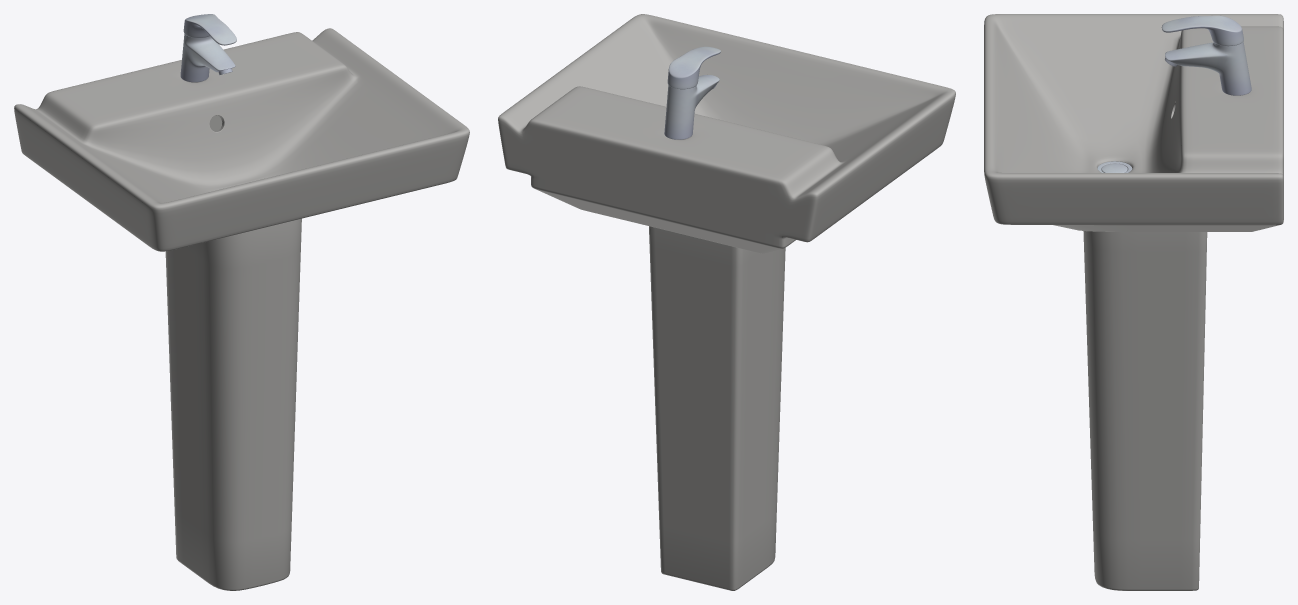
File: visual_HighPoly_07_PedestalSink.dae
The picture shows the model from 3 angles, left to right: view 1: azimuth 30°, elevation 25°; view 2: azimuth 150°, elevation 25°; view 3: azimuth 270°, elevation 25°; orthographic projection. The views are drawn at different scales.
Visible parts, largest first — view 1: SM_sink_high; view 2: SM_sink_high; view 3: SM_sink_high.
Boxes of the visible parts, bbox=[...] form: SM_sink_high: bbox=[14, 14, 469, 590]; SM_sink_high: bbox=[498, 14, 955, 590]; SM_sink_high: bbox=[984, 14, 1283, 590].
Bounding box in the file's own units: 59.83 × 46.42 × 94.23.
1 material, 1 textured.
